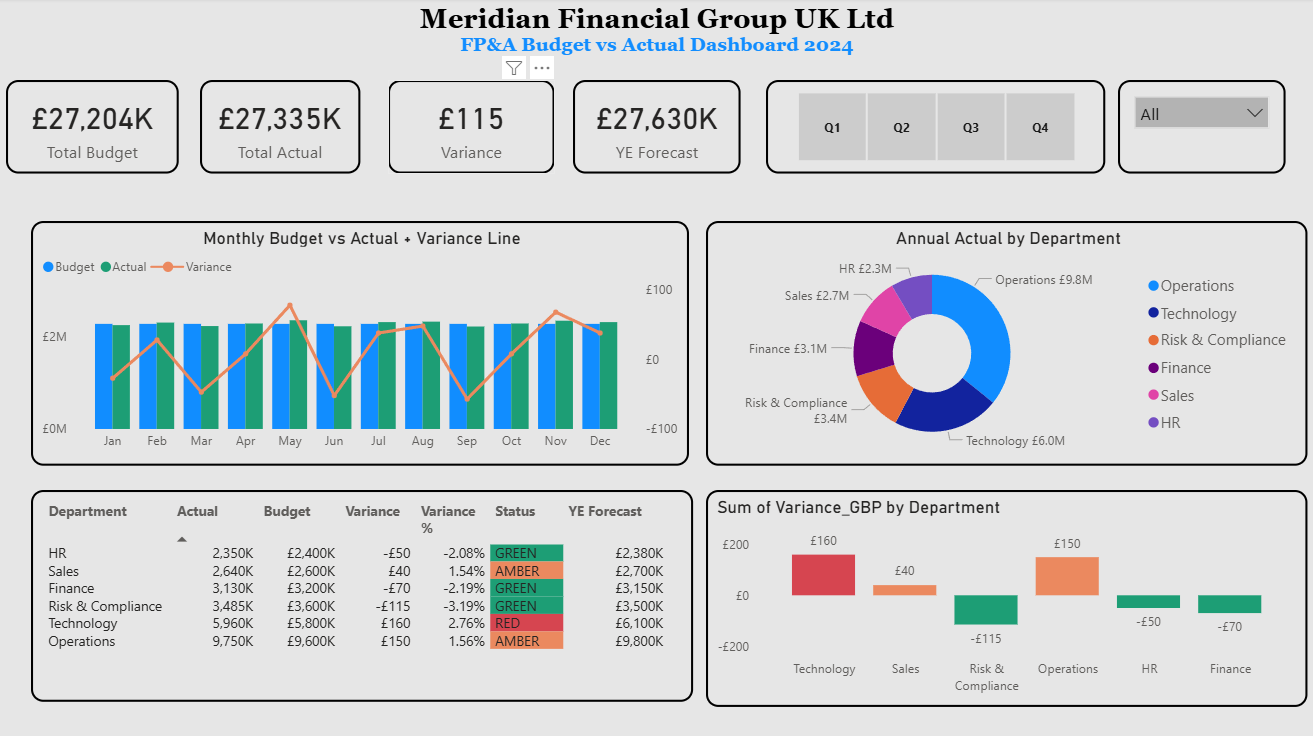

The page's visual inventory and layout, read from the dashboard file:
{"tool":"powerbi","page":{"name":"Page 1","canvas":[1280,720],"ordinal":0},"visuals":[{"type":"textbox","box":[0,0,1280,70],"z":0},{"type":"lineClusteredColumnComboChart","title":"Monthly Budget vs Actual + Variance Line","fields":{"Category":["Monthly_Actuals.Month"],"Y2":["Sum(Monthly_Actuals.Variance_GBP)"],"Y":["Sum(Monthly_Actuals.Budget_GBP)","Sum(Monthly_Actuals.Actual_GBP)"]},"box":[31.1,216.9,640,238.3],"z":1000},{"type":"donutChart","title":"Annual Actual by Department","fields":{"Category":["Monthly_Actuals.Department"],"Y":["Sum(Monthly_Actuals.Actual_GBP)"]},"box":[687.7,216.9,584.6,238.3],"z":2000},{"type":"tableEx","fields":{"Values":["Dept_Summary.Department","Dept_Summary.Annual_Actual","Dept_Summary.Annual_Budget","Dept_Summary.Variance_GBP","Dept_Summary.Variance_Pct","Dept_Summary.RAG_Status","Dept_Summary.YE_Forecast"]},"box":[31.1,478.5,644,206],"z":3000},{"type":"columnChart","title":"Variance GBP by Department","fields":{"Category":["Dept_Summary.Department"],"Y":["Sum(Dept_Summary.Variance_GBP)"]},"box":[683.8,478.5,588.4,206.2],"z":4000},{"type":"card","fields":{"Values":["Sum(Monthly_Actuals.Budget_GBP)"]},"box":[31.1,79.8,168.3,91.4],"z":5000},{"type":"card","fields":{"Values":["Sum(Monthly_Actuals.Actual_GBP)"]},"box":[215,79.8,158.5,91.4],"z":6000},{"type":"card","fields":{"Values":["Sum(Dept_Summary.Variance_GBP)"]},"box":[392.9,79.8,156.6,91.4],"z":7000},{"type":"card","fields":{"Values":["Sum(Dept_Summary.YE_Forecast)"]},"box":[565.1,79.8,163.4,91.4],"z":8000},{"type":"slicer","fields":{"Values":["Monthly_Actuals.Quaters"]},"box":[752.8,79.8,335.6,91.4],"z":9000},{"type":"slicer","fields":{"Values":["Monthly_Actuals.Month"]},"box":[1108.8,79.8,163.4,91.4],"z":10000}]}

Visuals, with their boxes in screenshot pixels (x1, y1, x2, y2), scaled from the page's 1280x720 canvas onto the 1313x736 screenshot:
textbox: [0, 0, 1312, 72]
"Monthly Budget vs Actual + Variance Line" lineClusteredColumnComboChart: [32, 222, 688, 465]
"Annual Actual by Department" donutChart: [705, 222, 1305, 465]
tableEx - Dept_Summary.Department x Dept_Summary.Annual_Actual: [32, 489, 693, 700]
"Variance GBP by Department" columnChart: [701, 489, 1305, 700]
card - Sum(Monthly_Actuals.Budget_GBP): [32, 82, 205, 175]
card - Sum(Monthly_Actuals.Actual_GBP): [221, 82, 383, 175]
card - Sum(Dept_Summary.Variance_GBP): [403, 82, 564, 175]
card - Sum(Dept_Summary.YE_Forecast): [580, 82, 747, 175]
slicer - Monthly_Actuals.Quaters: [772, 82, 1116, 175]
slicer - Monthly_Actuals.Month: [1137, 82, 1305, 175]
